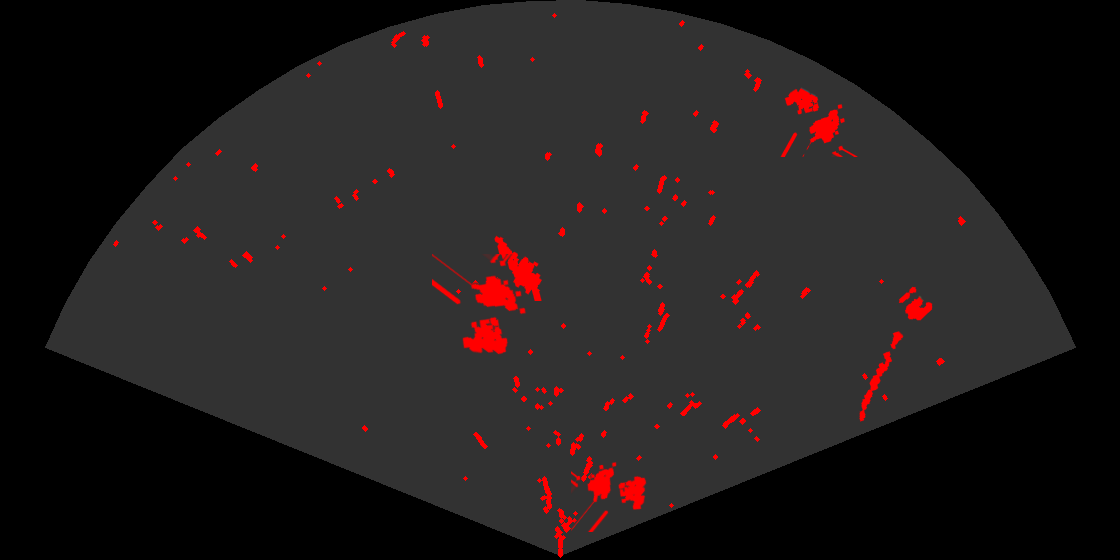ball: (897, 285, 934, 322)
cage: (432, 254, 528, 356), (779, 87, 859, 157), (571, 460, 648, 532)
chain: (858, 330, 905, 423)
frogman: (493, 234, 543, 301)
